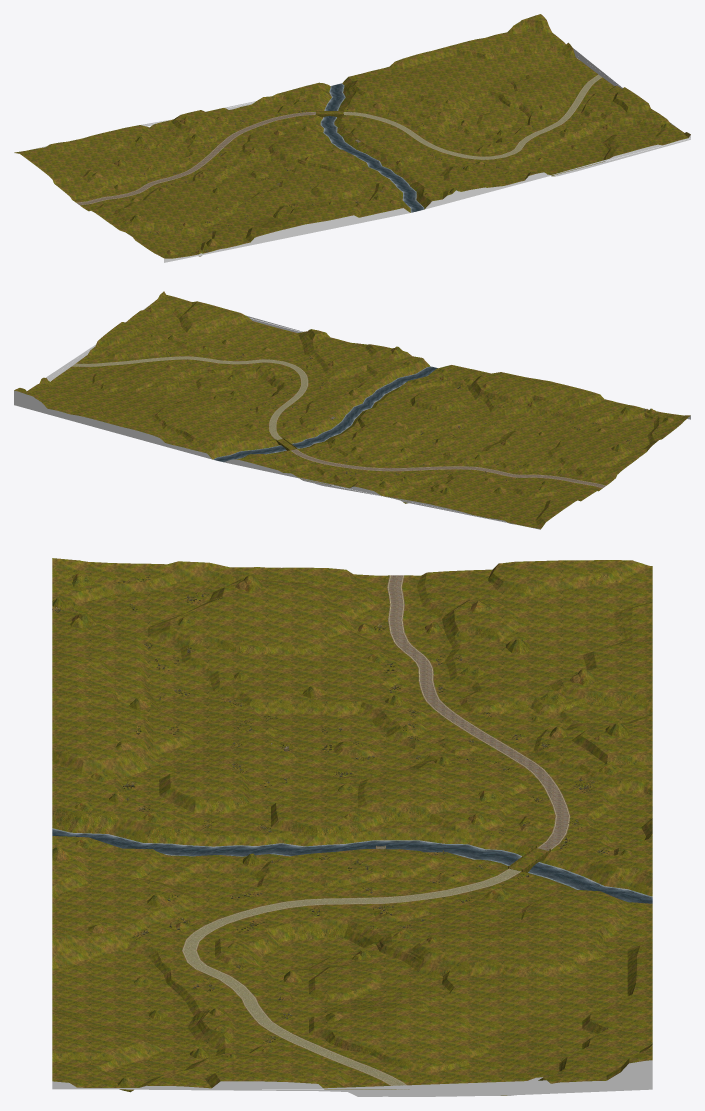
File: EastTristaHighway1.obj
3 renders of one model, top to bottom at view 1: azimuth 30°, elevation 25°; view 2: azimuth 150°, elevation 25°; view 3: azimuth 270°, elevation 25°, orthographic. The views are drawn at different scales.
Parts seen in each view (by area): view 1: Object.34, Object.33, Object.29, Object.32, Object.30, Object.31, Object.1; view 2: Object.34, Object.33, Object.29, Object.32, Object.30, Object.31, Object.1; view 3: Object.34, Object.33, Object.29, Object.32, Object.31, Object.1, Object.30.
Part boxes in pixels (<box>): Object.34: <box>14,14,690,262</box>; Object.33: <box>92,91,670,256</box>; Object.29: <box>320,83,424,212</box>; Object.32: <box>343,75,601,159</box>; Object.30: <box>76,74,602,205</box>; Object.31: <box>77,112,315,204</box>; Object.1: <box>129,99,580,252</box>; Object.34: <box>14,291,690,529</box>; Object.33: <box>146,306,674,494</box>; Object.29: <box>213,366,437,462</box>; Object.32: <box>72,356,307,439</box>; Object.30: <box>72,356,606,488</box>; Object.31: <box>291,449,605,487</box>; Object.1: <box>166,351,658,480</box>; Object.34: <box>52,558,652,1096</box>; Object.33: <box>52,574,632,1092</box>; Object.29: <box>52,828,652,903</box>; Object.32: <box>183,869,519,1089</box>; Object.31: <box>388,575,568,850</box>; Object.1: <box>52,577,609,1043</box>; Object.30: <box>182,575,570,1089</box>.
Size of the model in its own units: 528 by 24.43 by 260.
